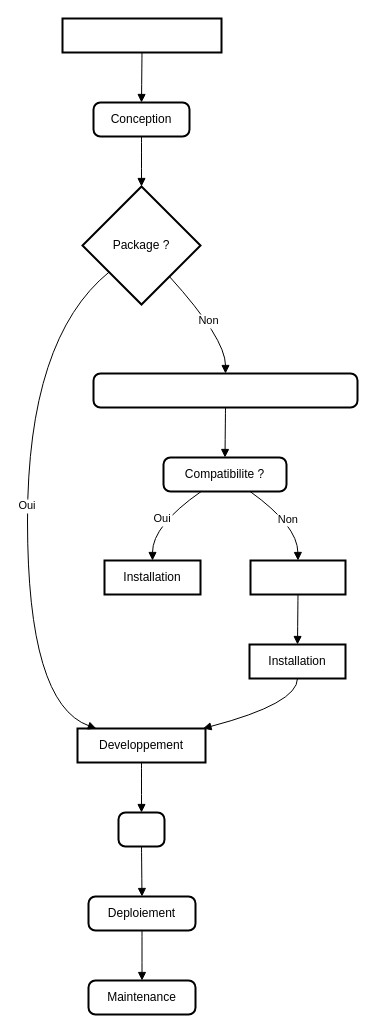
Image size: 375x1032. Some labels were removed from this diagram. The centre of each missing label's shape, as x and y in pixels:
"Adaptation" goes at point (297, 577).
"Analyser les besoins" goes at point (141, 35).
"Rechercher des packages existants" goes at point (225, 390).
"Test" goes at point (141, 829).
